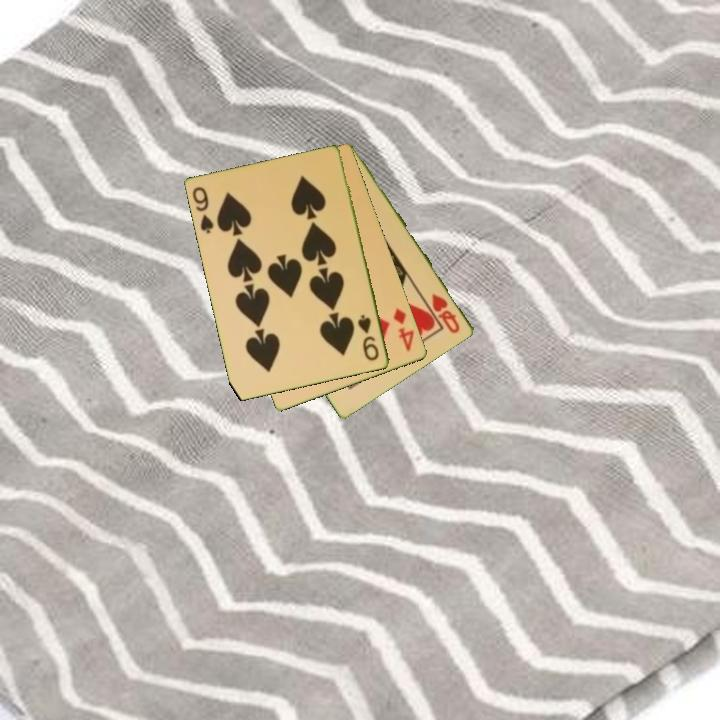4d: (390, 305, 417, 354)
9s: (189, 183, 217, 237), (354, 311, 382, 364)
Qh: (428, 290, 463, 337)
